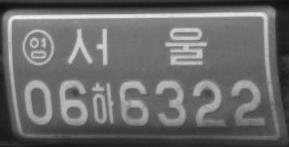0: (23, 79, 53, 125)
2: (230, 78, 265, 128), (192, 78, 225, 128)
3: (155, 78, 186, 128)
6: (118, 79, 149, 127), (58, 78, 88, 127)
서울_D: (66, 26, 207, 65)
영: (21, 28, 55, 66)
하: (92, 81, 114, 124)
